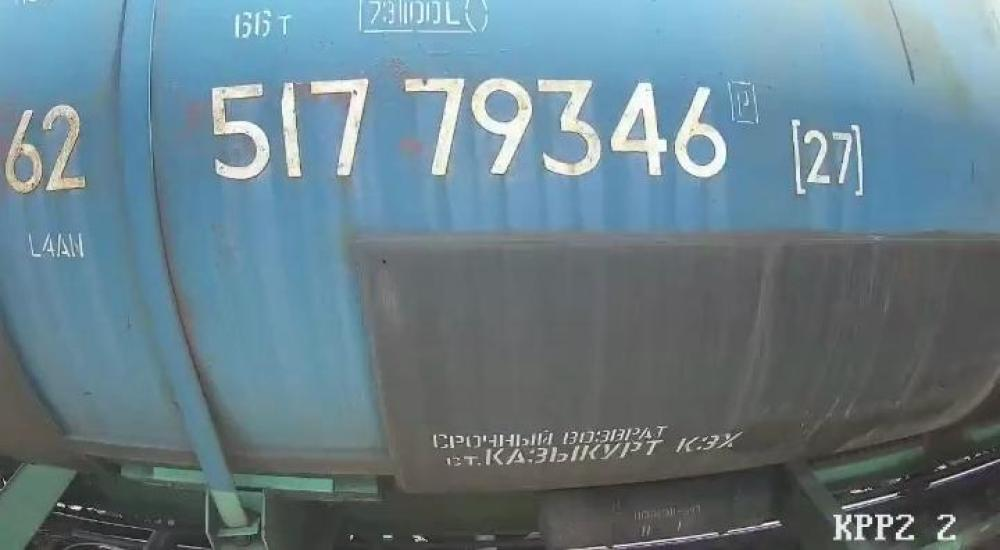Wagon-number: (195, 73, 736, 190)
